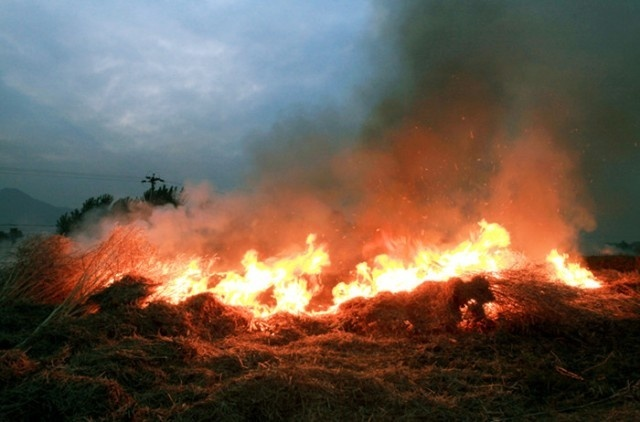fire: (105, 209, 567, 320), (545, 246, 603, 288)
